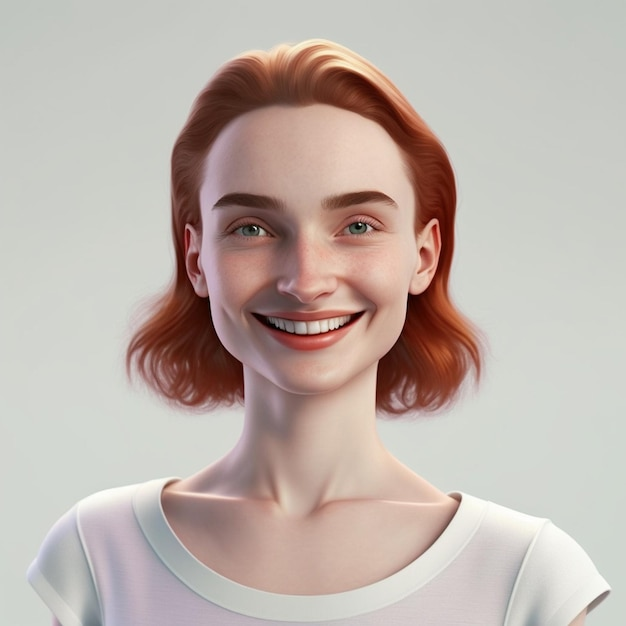teen: (148, 39, 468, 407)
